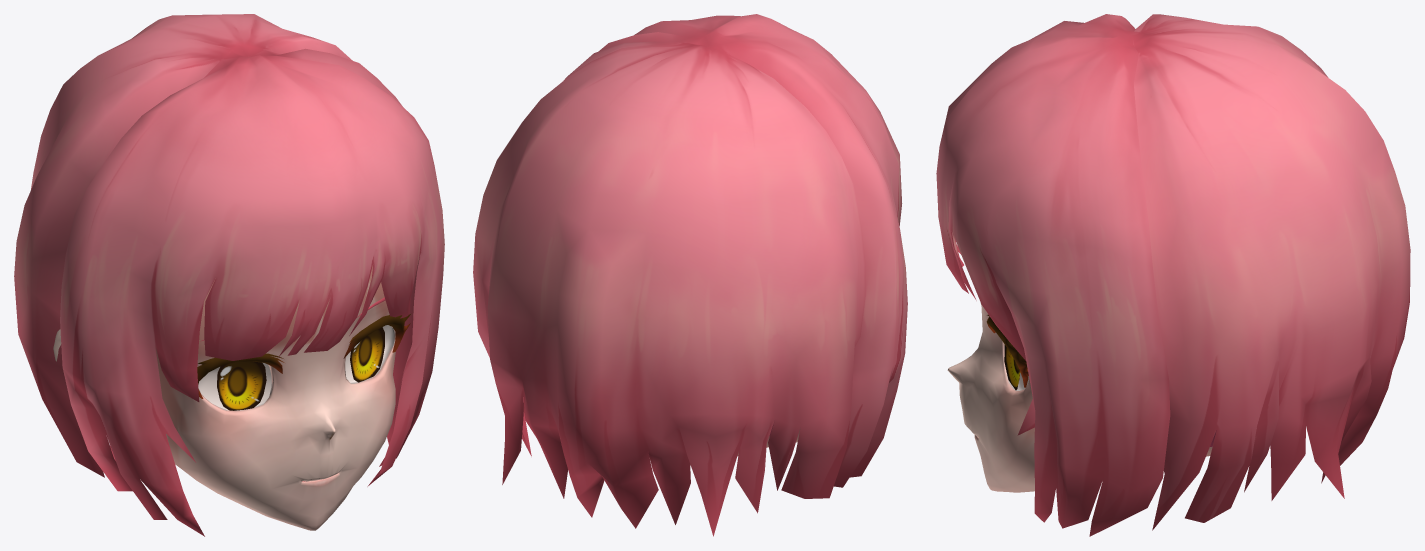
3 renders of one model, left to right at view 1: azimuth 30°, elevation 25°; view 2: azimuth 150°, elevation 25°; view 3: azimuth 270°, elevation 25°, orthographic. The views are drawn at different scales.
Parts seen in each view (by area): view 1: face_anime3:pasted__pasted__transform20, face_anime:pasted__pasted__transform6, TEMPORARY_IMPORT_NAMESPACE__u_____h_V_F_C_v_0921:pasted__pol (×2), TEMPORARY_IMPORT_NAMESPACE__u_____h_V_F_C_v_0921:pasted__pas; view 2: face_anime3:pasted__pasted__transform20; view 3: face_anime3:pasted__pasted__transform20, face_anime:pasted__pasted__transform6, TEMPORARY_IMPORT_NAMESPACE__u_____h_V_F_C_v_0921:pasted__pas.
Boxes of the visible parts, x1,y1,x2,y2 form: face_anime3:pasted__pasted__transform20: (14, 14, 444, 536); face_anime:pasted__pasted__transform6: (53, 265, 395, 530); TEMPORARY_IMPORT_NAMESPACE__u_____h_V_F_C_v_0921:pasted__pol (×2): (217, 327, 384, 410); TEMPORARY_IMPORT_NAMESPACE__u_____h_V_F_C_v_0921:pasted__pas: (197, 314, 410, 398); face_anime3:pasted__pasted__transform20: (473, 14, 907, 536); face_anime3:pasted__pasted__transform20: (936, 14, 1410, 536); face_anime:pasted__pasted__transform6: (947, 302, 1216, 492); TEMPORARY_IMPORT_NAMESPACE__u_____h_V_F_C_v_0921:pasted__pas: (986, 314, 1028, 387).
Bounding box in the file's own units: 23.91 × 27.07 × 25.57.
Materials: 5 (3 with a texture image).
